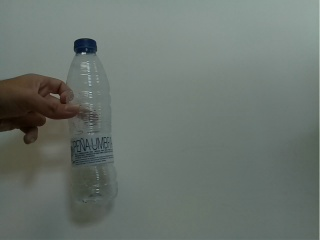botella plastico: (64, 36, 121, 208)
